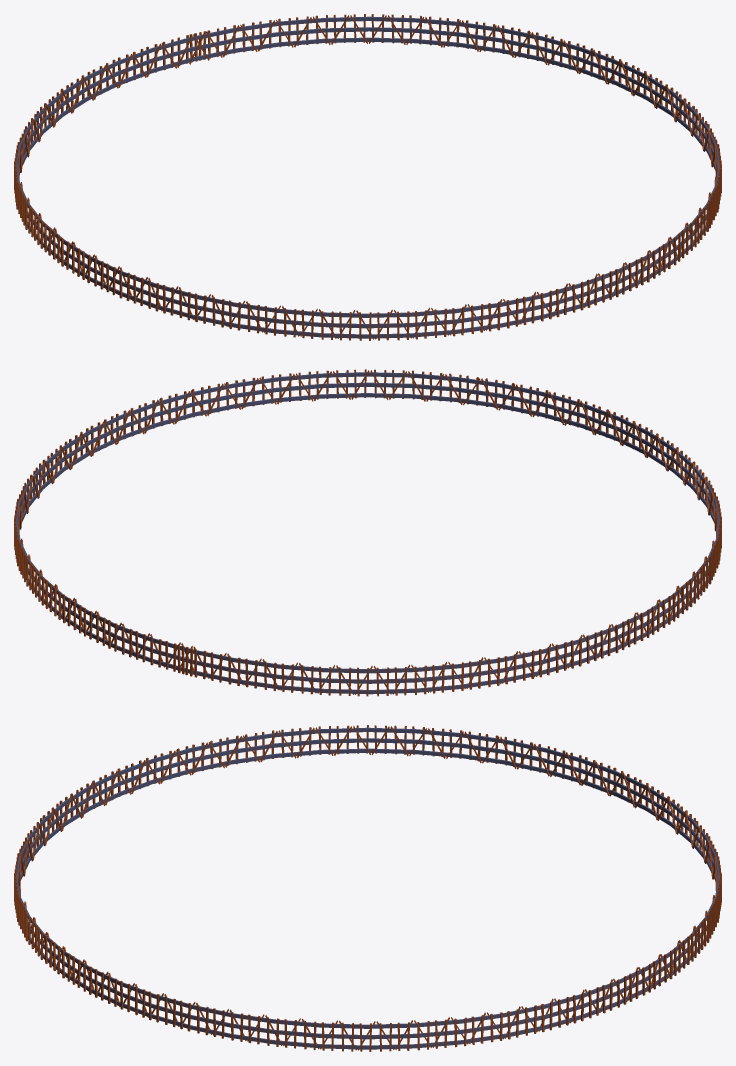
Rendered from SM_GCheminFer.fbx.
The picture shows the model from 3 angles, top to bottom: view 1: azimuth 30°, elevation 25°; view 2: azimuth 150°, elevation 25°; view 3: azimuth 270°, elevation 25°; orthographic projection.
Parts seen in each view (by area): view 1: SM_CheminFer; view 2: SM_CheminFer; view 3: SM_CheminFer.
Part boxes in pixels (x1,y1,x2,y2): SM_CheminFer: [14, 14, 721, 340]; SM_CheminFer: [14, 369, 721, 696]; SM_CheminFer: [14, 725, 721, 1051].
Size of the model in its own units: 15865 by 731 by 15865.
